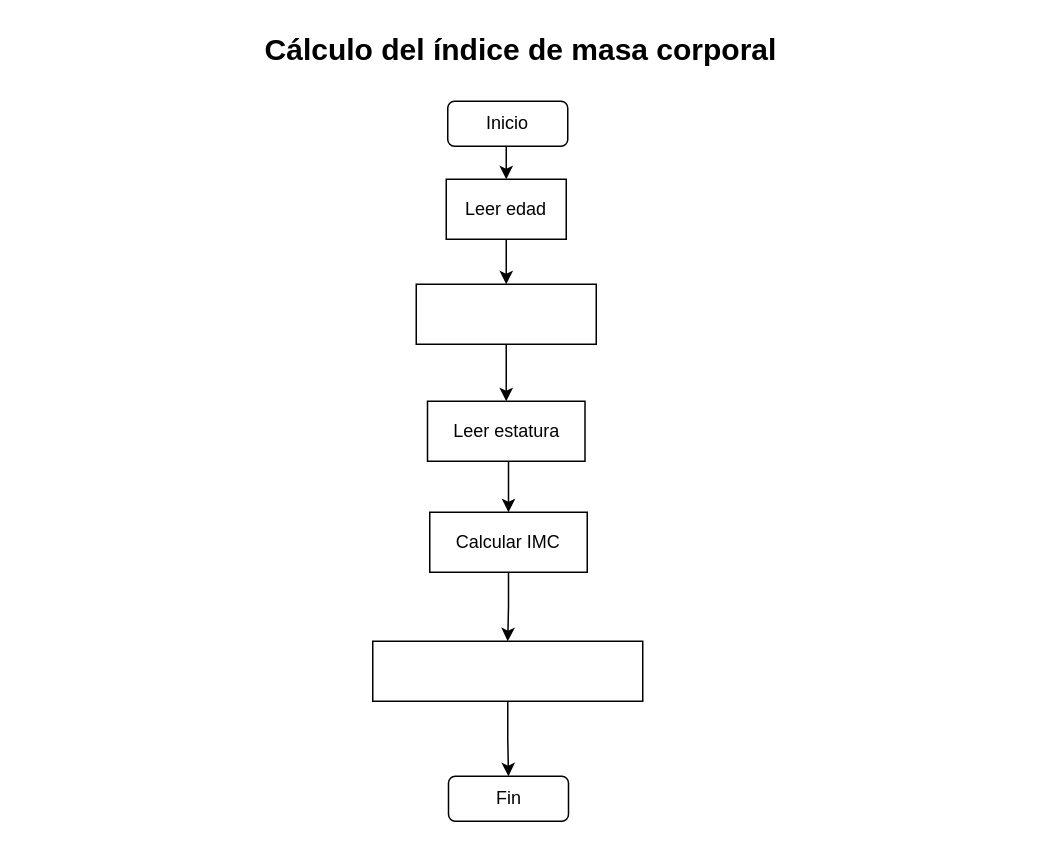
Image size: 1041x848. Some labels were removed from this diagram. The centre of each missing label's shape, as x and y in pixels:
"Leer peso" belongs at (x=505, y=313).
"Presentar datos por pantalla" belongs at (x=507, y=670).
